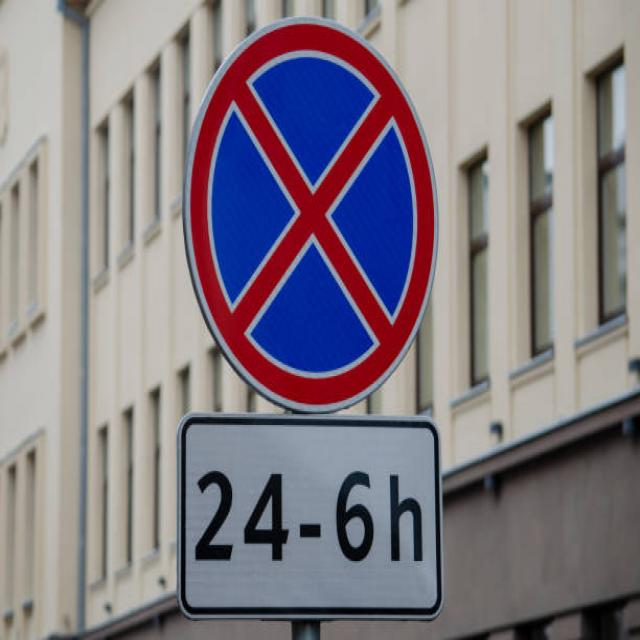no_parking: (182, 8, 444, 415)
